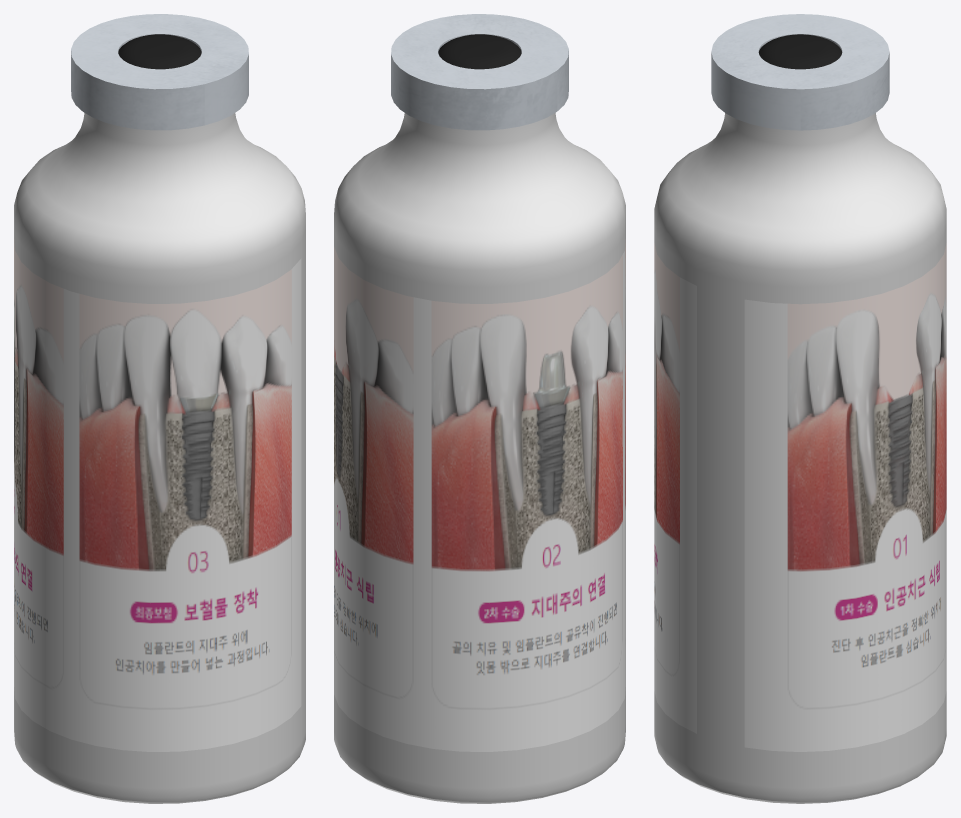
The model's file is LocalAnesthetics.fbx.
The picture shows the model from 3 angles, left to right: view 1: azimuth 30°, elevation 25°; view 2: azimuth 150°, elevation 25°; view 3: azimuth 270°, elevation 25°; orthographic projection.
Parts seen in each view (by area): view 1: Glass; view 2: Glass; view 3: Glass.
Part boxes in pixels (<box>): Glass: <box>14,14,305,803</box>; Glass: <box>334,14,625,803</box>; Glass: <box>654,14,946,803</box>.
Size of the model in its own units: 2.58 by 6.81 by 2.58.
